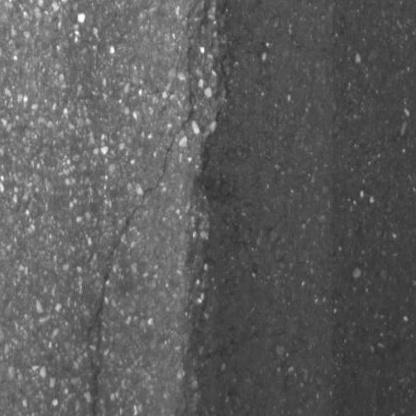Cracks: (84, 81, 201, 416)
